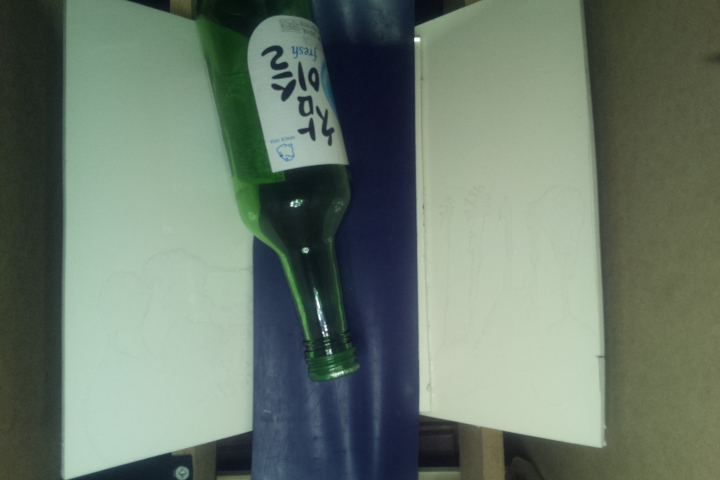soju: (195, 1, 359, 390)
